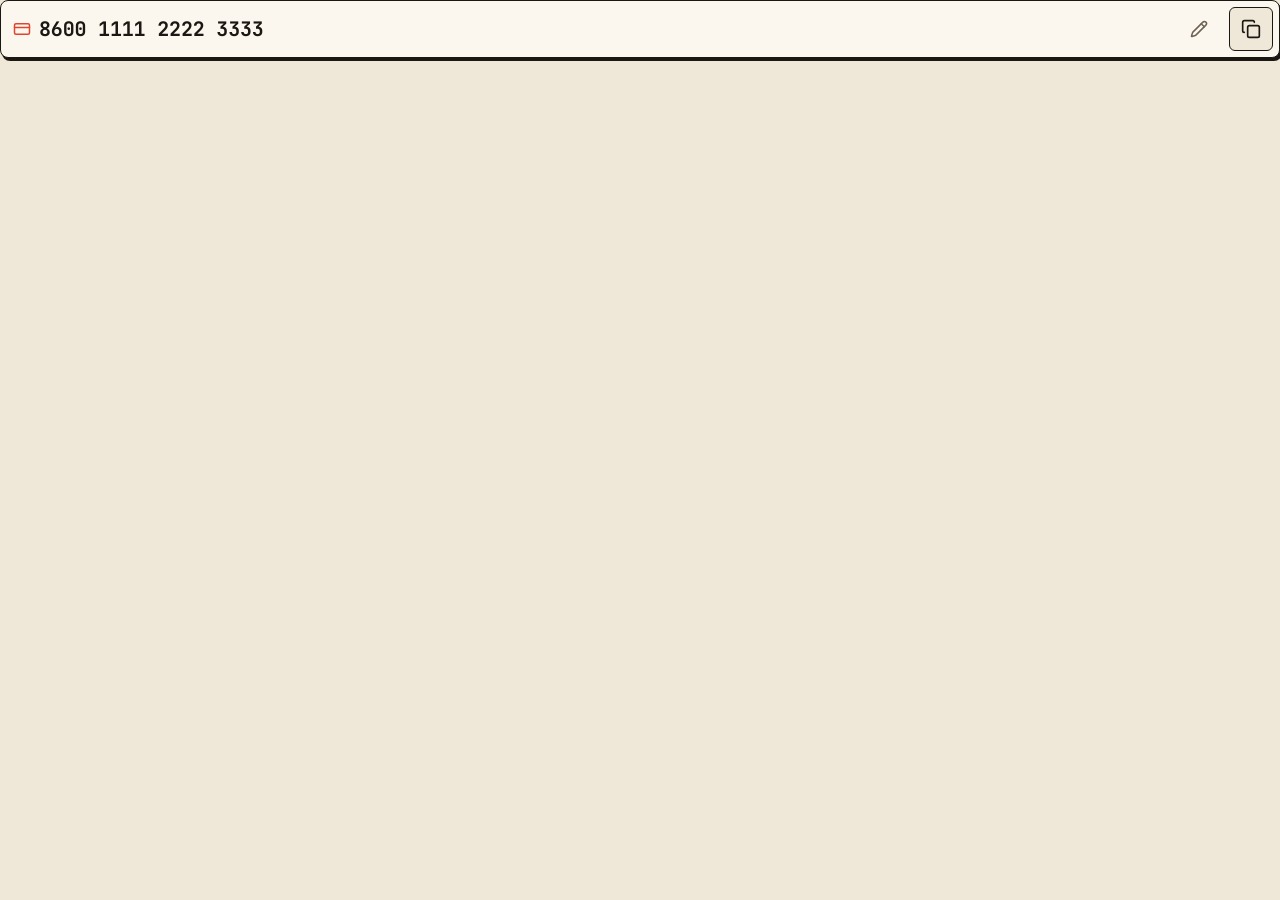
PaymentCard compact mode › opens editing on the saved cards, with the bill’s own card in the field
Later steps or results of the test are not shown.
Click the button named "Edit payment details": [1199, 29] box [1177,7,1221,51]
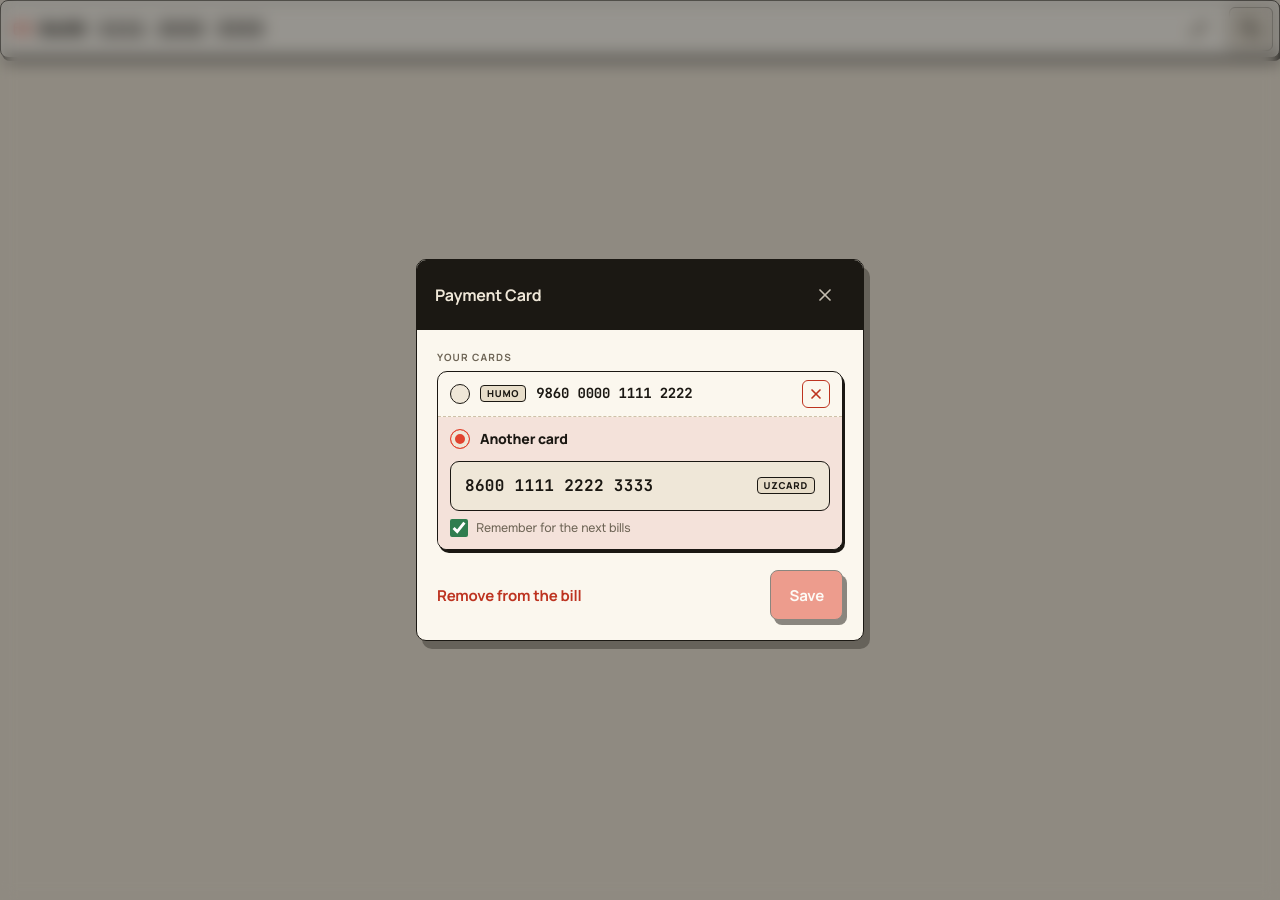
Expected: the dialog "Payment Card" is shown, [416,259,864,641]
Expected: the radio button labelled "Another card" is checked, [450,429,470,449]
Expected: the field named "Card number" holds "8600 1111 2222 3333", [465,462,749,510]
